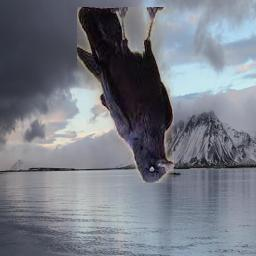Crow: (78, 7, 175, 183)
